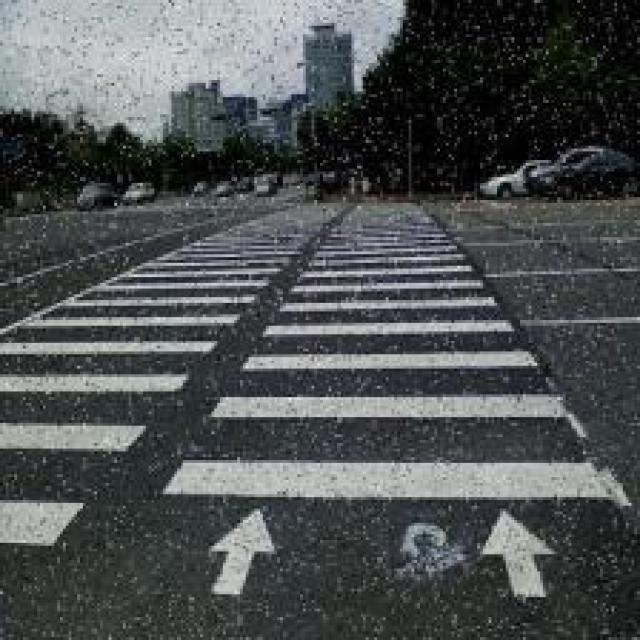walk-crossing: (0, 198, 596, 558)
